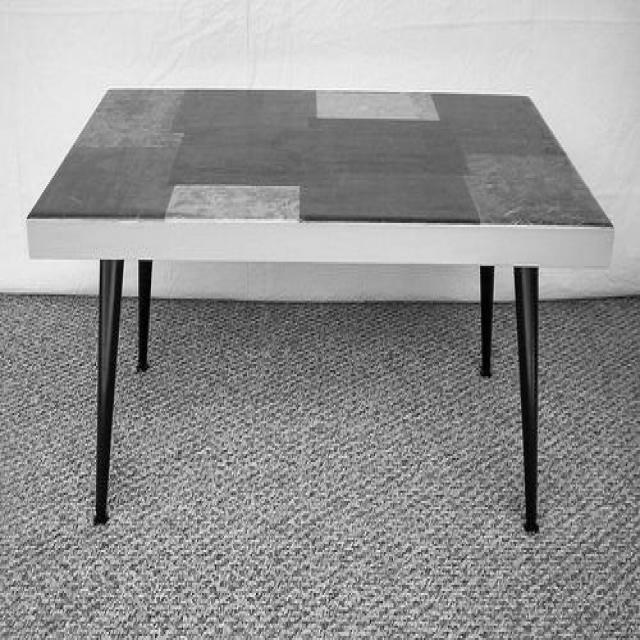table: (27, 84, 614, 536)
